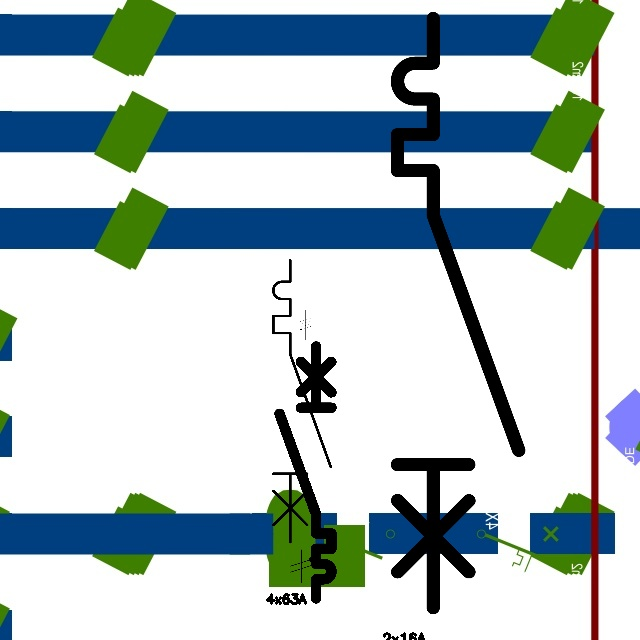interruptor_termomagnetico: (382, 3, 534, 623), (266, 253, 338, 549), (273, 340, 338, 605)
